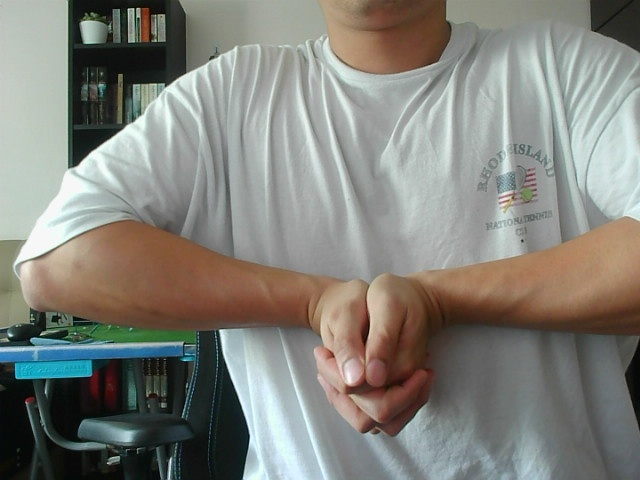Boar: (281, 240, 469, 454)
